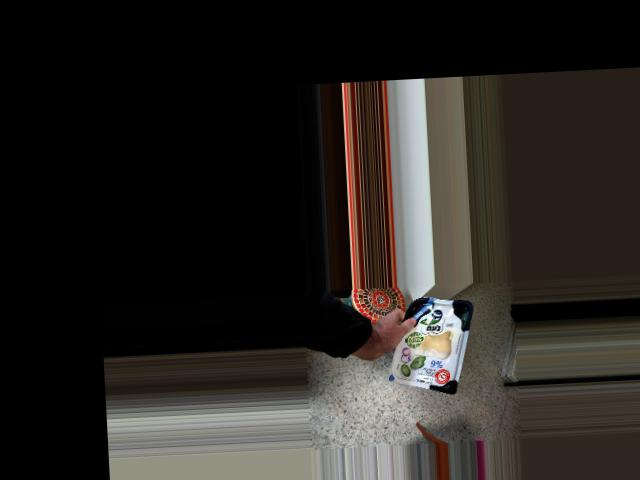cheese: (384, 293, 477, 392)
